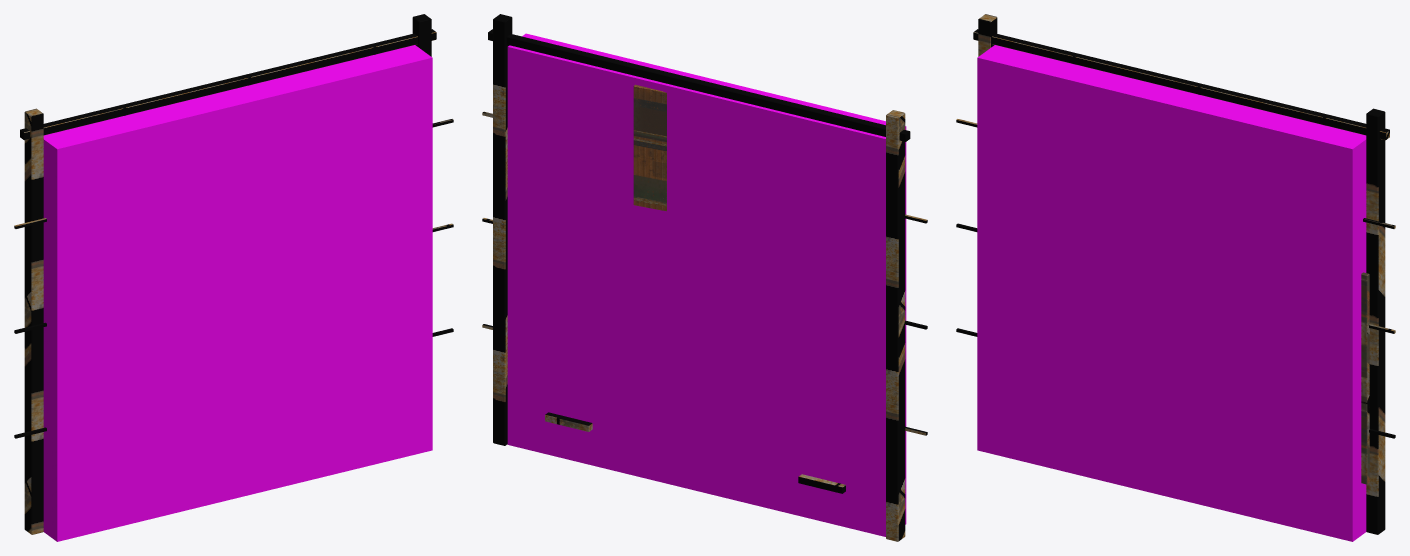
The model's file is prop_door_fence_patch.glb.
3 renders of one model, left to right at view 1: azimuth 30°, elevation 25°; view 2: azimuth 150°, elevation 25°; view 3: azimuth 330°, elevation 25°, orthographic.
Parts seen in each view (by area): view 1: prop_door_fence_patch-col, Frame; view 2: prop_door_fence_patch-col, Frame, Panel; view 3: prop_door_fence_patch-col, Frame, Panel.
Boxes of the visible parts, <box> form: prop_door_fence_patch-col: <box>43,45,432,541</box>; Frame: <box>14,14,453,534</box>; prop_door_fence_patch-col: <box>507,33,906,536</box>; Frame: <box>482,14,927,541</box>; Panel: <box>633,84,666,211</box>; prop_door_fence_patch-col: <box>977,45,1366,541</box>; Frame: <box>956,14,1395,534</box>; Panel: <box>1361,272,1369,484</box>.
Bounding box in the file's own units: 3.5 × 3.2 × 0.3065.
3 materials, 2 textured.
